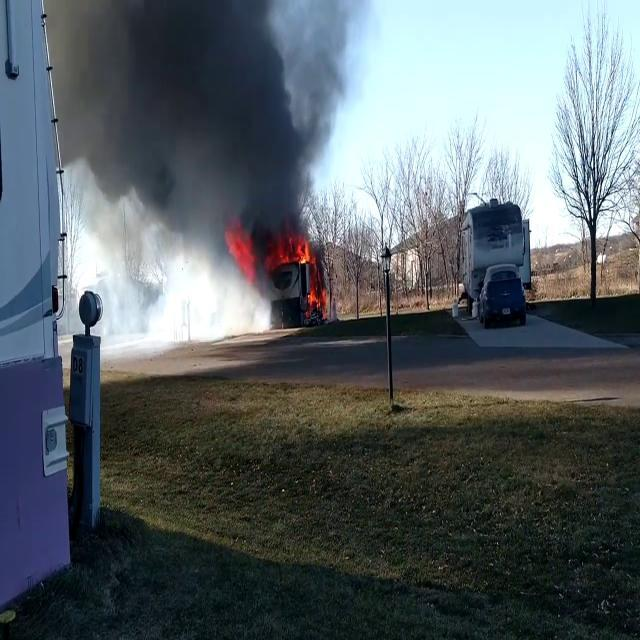Fire: (294, 236, 328, 320), (222, 220, 261, 290)
Smoke: (52, 0, 354, 324)
